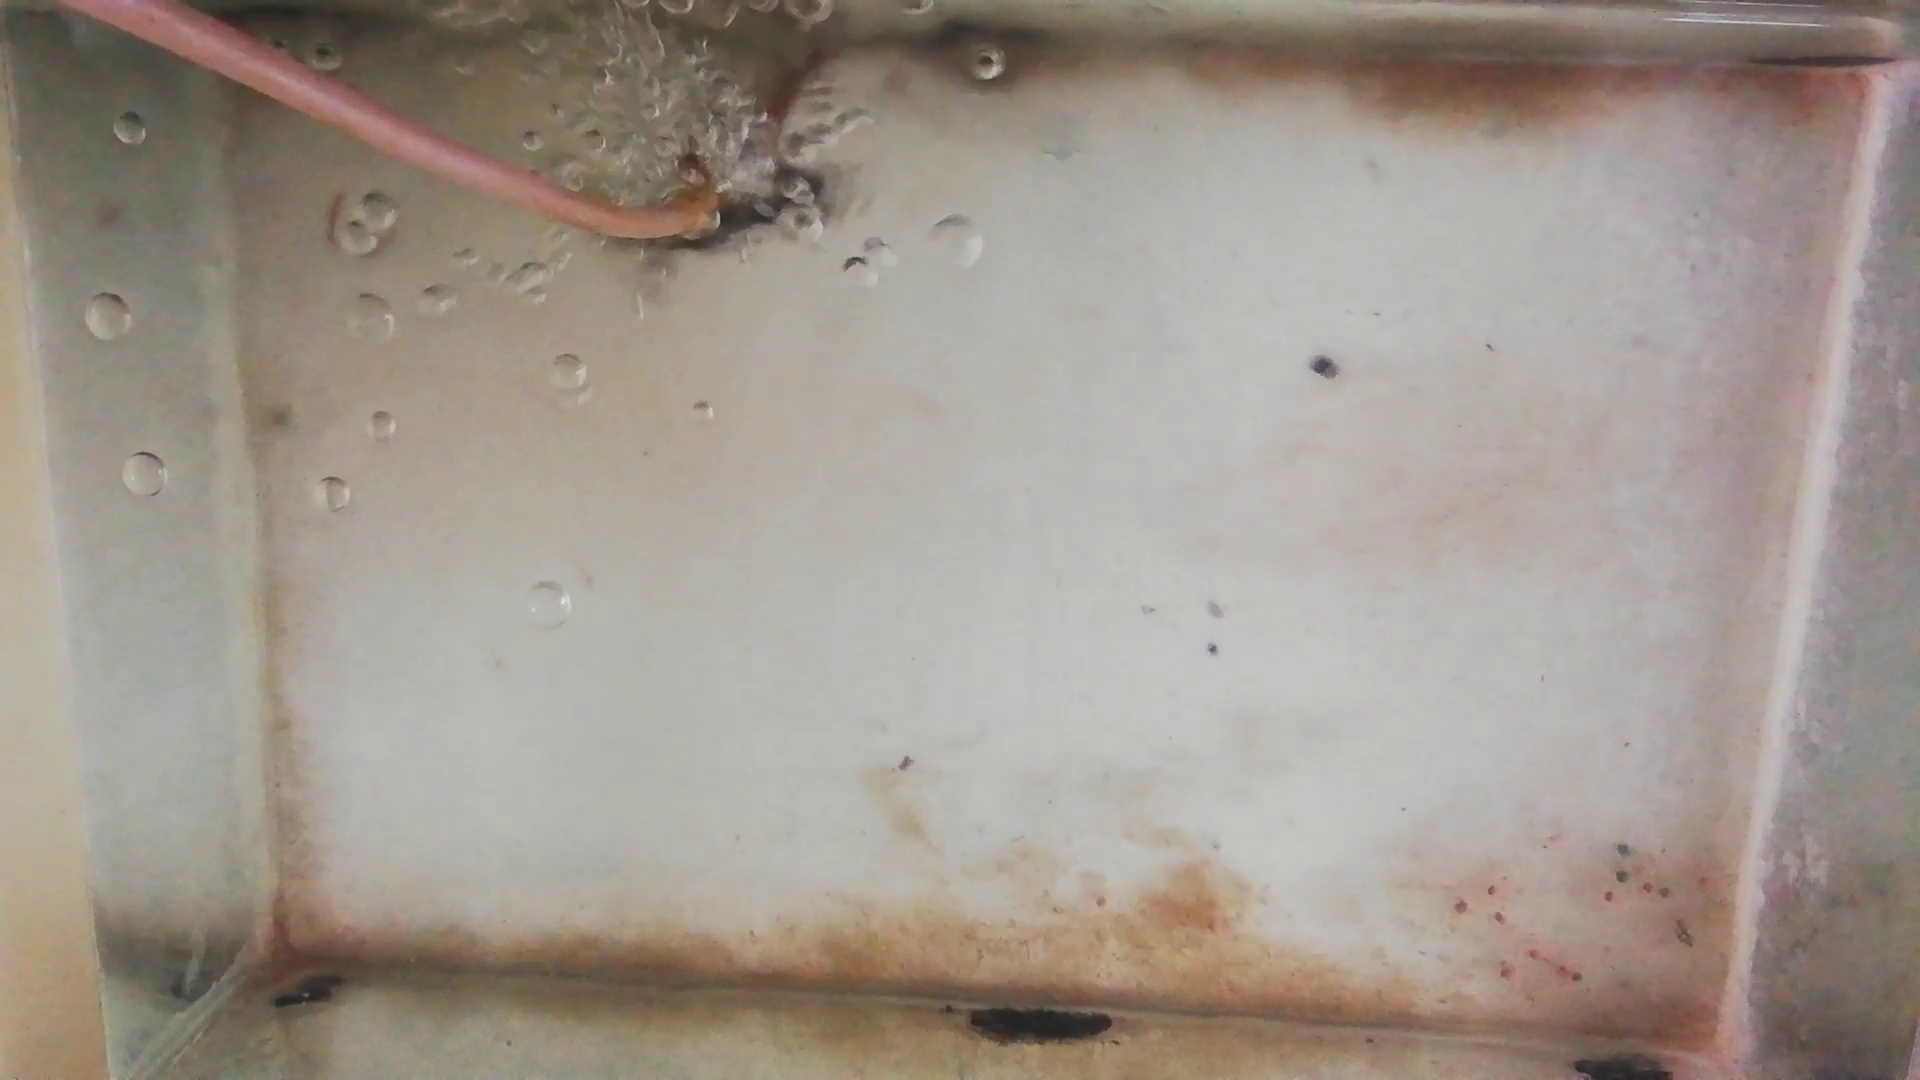fish: (692, 173, 836, 253), (749, 28, 822, 153)
